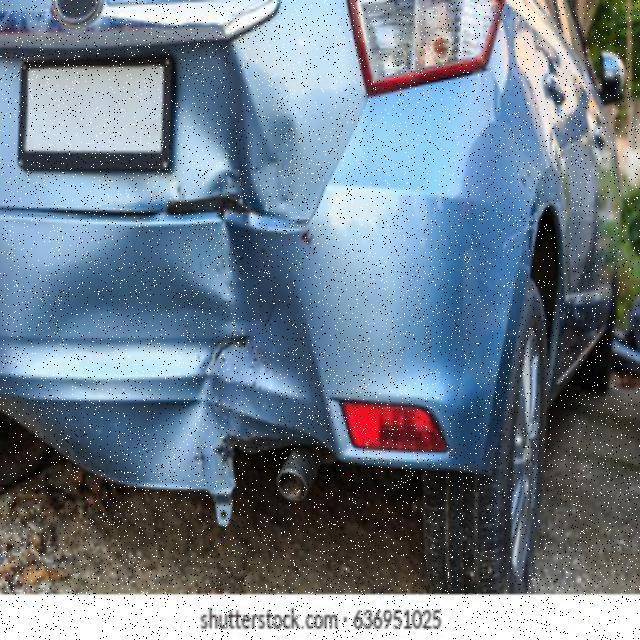rear-bumper-dent: (0, 190, 540, 493)
